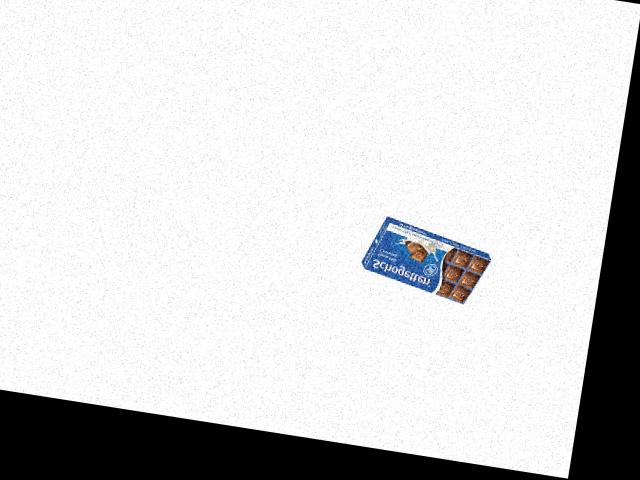chocolate: (355, 223, 495, 307)
